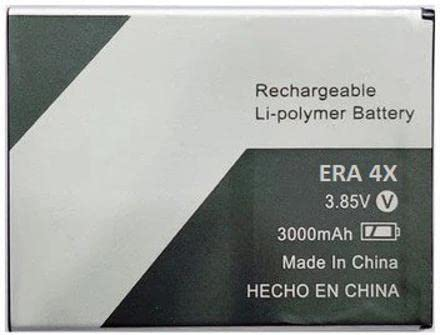3.85V: (326, 194, 370, 208)
3000mAh: (278, 227, 352, 241)
4X: (370, 165, 397, 181)
@: (376, 190, 398, 212)
Battery: (354, 106, 414, 123)
CHINA: (345, 284, 399, 297)
China: (353, 255, 397, 269)
EN: (316, 284, 338, 297)
ERA: (320, 165, 362, 181)
HECHO: (248, 284, 309, 297)
In: (333, 256, 345, 268)
Li-polymer: (256, 107, 346, 123)
Made: (283, 255, 325, 269)
Rechargeable: (256, 84, 375, 101)
